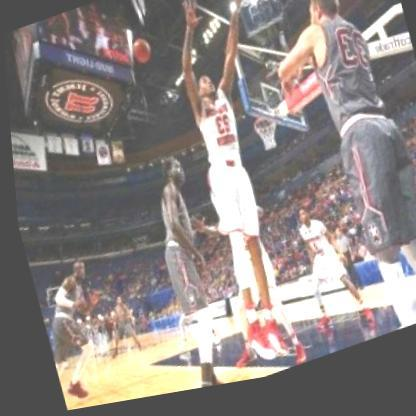basketball: (129, 41, 150, 68)
